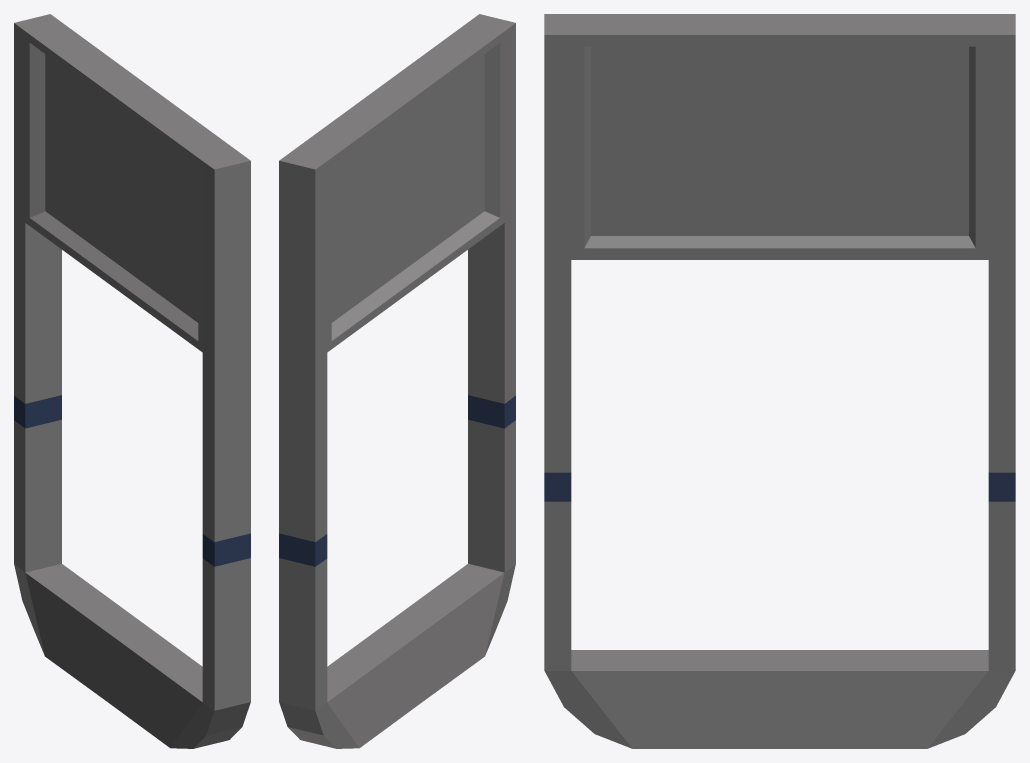
The model's file is poster.fbx.
3 views of the same model, side by side, from view 1: azimuth 30°, elevation 25°; view 2: azimuth 150°, elevation 25°; view 3: azimuth 270°, elevation 25° (orthographic). The views are drawn at different scales.
Visible parts, largest first — view 1: poster; view 2: poster; view 3: poster.
Part boxes in pixels (box(x1,y1,x2,y2)): poster: box(14, 14, 250, 748); poster: box(279, 14, 515, 748); poster: box(544, 14, 1015, 748).
Bounding box in the file's own units: 51.94 × 607 × 365.
